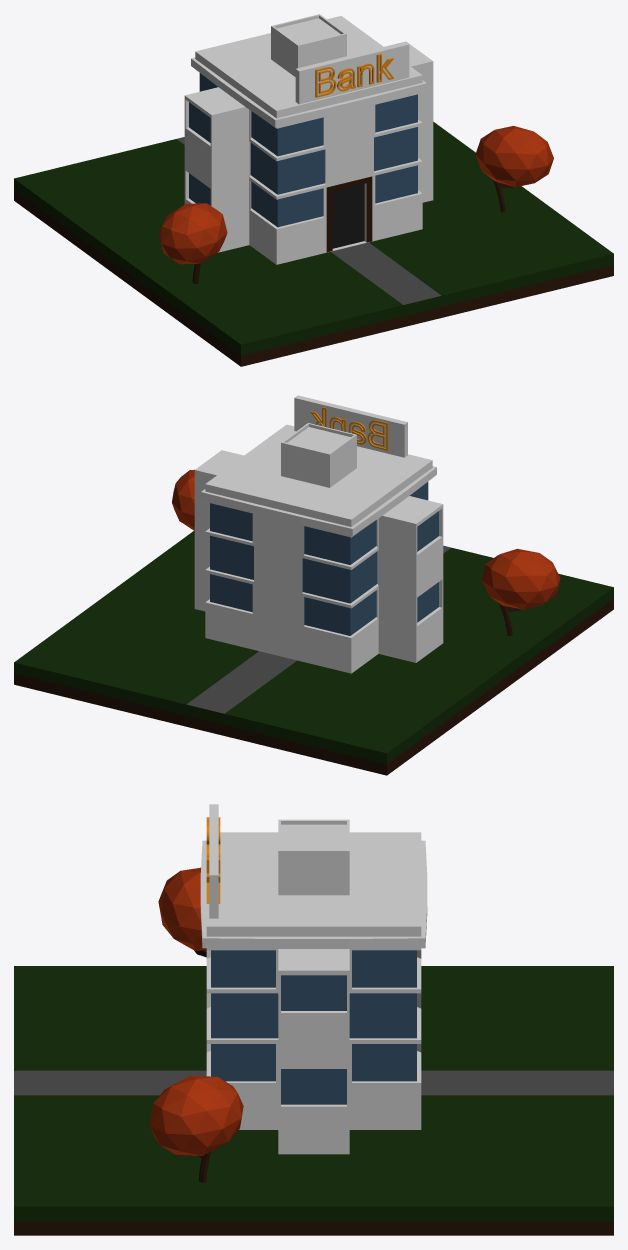
Rendered from Bank_1245.obj.
3 renders of one model, top to bottom at view 1: azimuth 30°, elevation 25°; view 2: azimuth 150°, elevation 25°; view 3: azimuth 270°, elevation 25°, orthographic. The views are drawn at different scales.
Visible parts, largest first — view 1: Box001, GeoSphere001, GeoSphere002; view 2: Box001, GeoSphere002, GeoSphere001; view 3: Box001, GeoSphere001, GeoSphere002.
Part boxes in pixels (bbox=[...]): Box001: bbox=[14, 14, 613, 366]; GeoSphere001: bbox=[475, 126, 553, 212]; GeoSphere002: bbox=[159, 203, 227, 283]; Box001: bbox=[14, 395, 613, 775]; GeoSphere002: bbox=[481, 548, 560, 635]; GeoSphere001: bbox=[172, 469, 194, 530]; Box001: bbox=[14, 804, 613, 1235]; GeoSphere001: bbox=[149, 1075, 243, 1182]; GeoSphere002: bbox=[158, 867, 206, 957].
Size of the model in its own units: 137 by 71.78 by 140.
